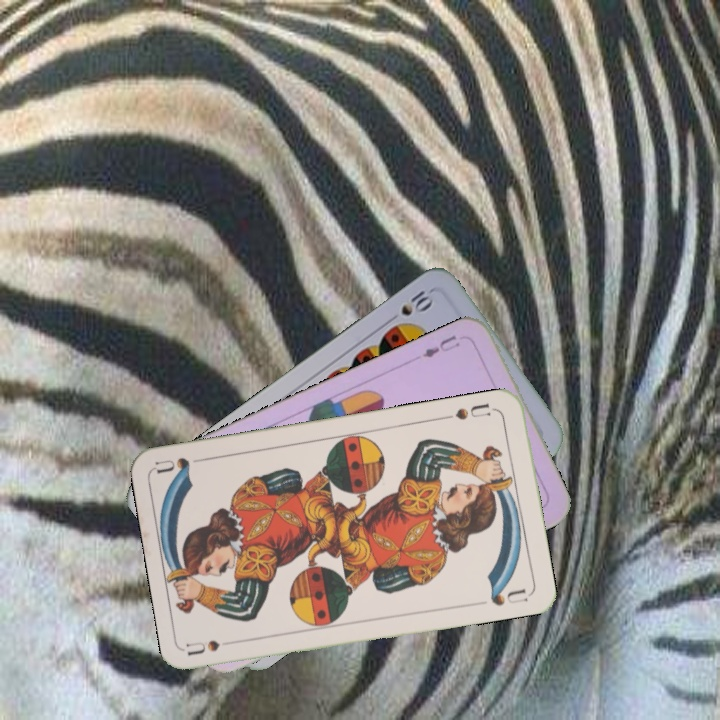EU: (418, 331, 463, 361)
S10: (383, 283, 437, 326)
SU: (440, 399, 493, 423), (184, 636, 222, 658)
